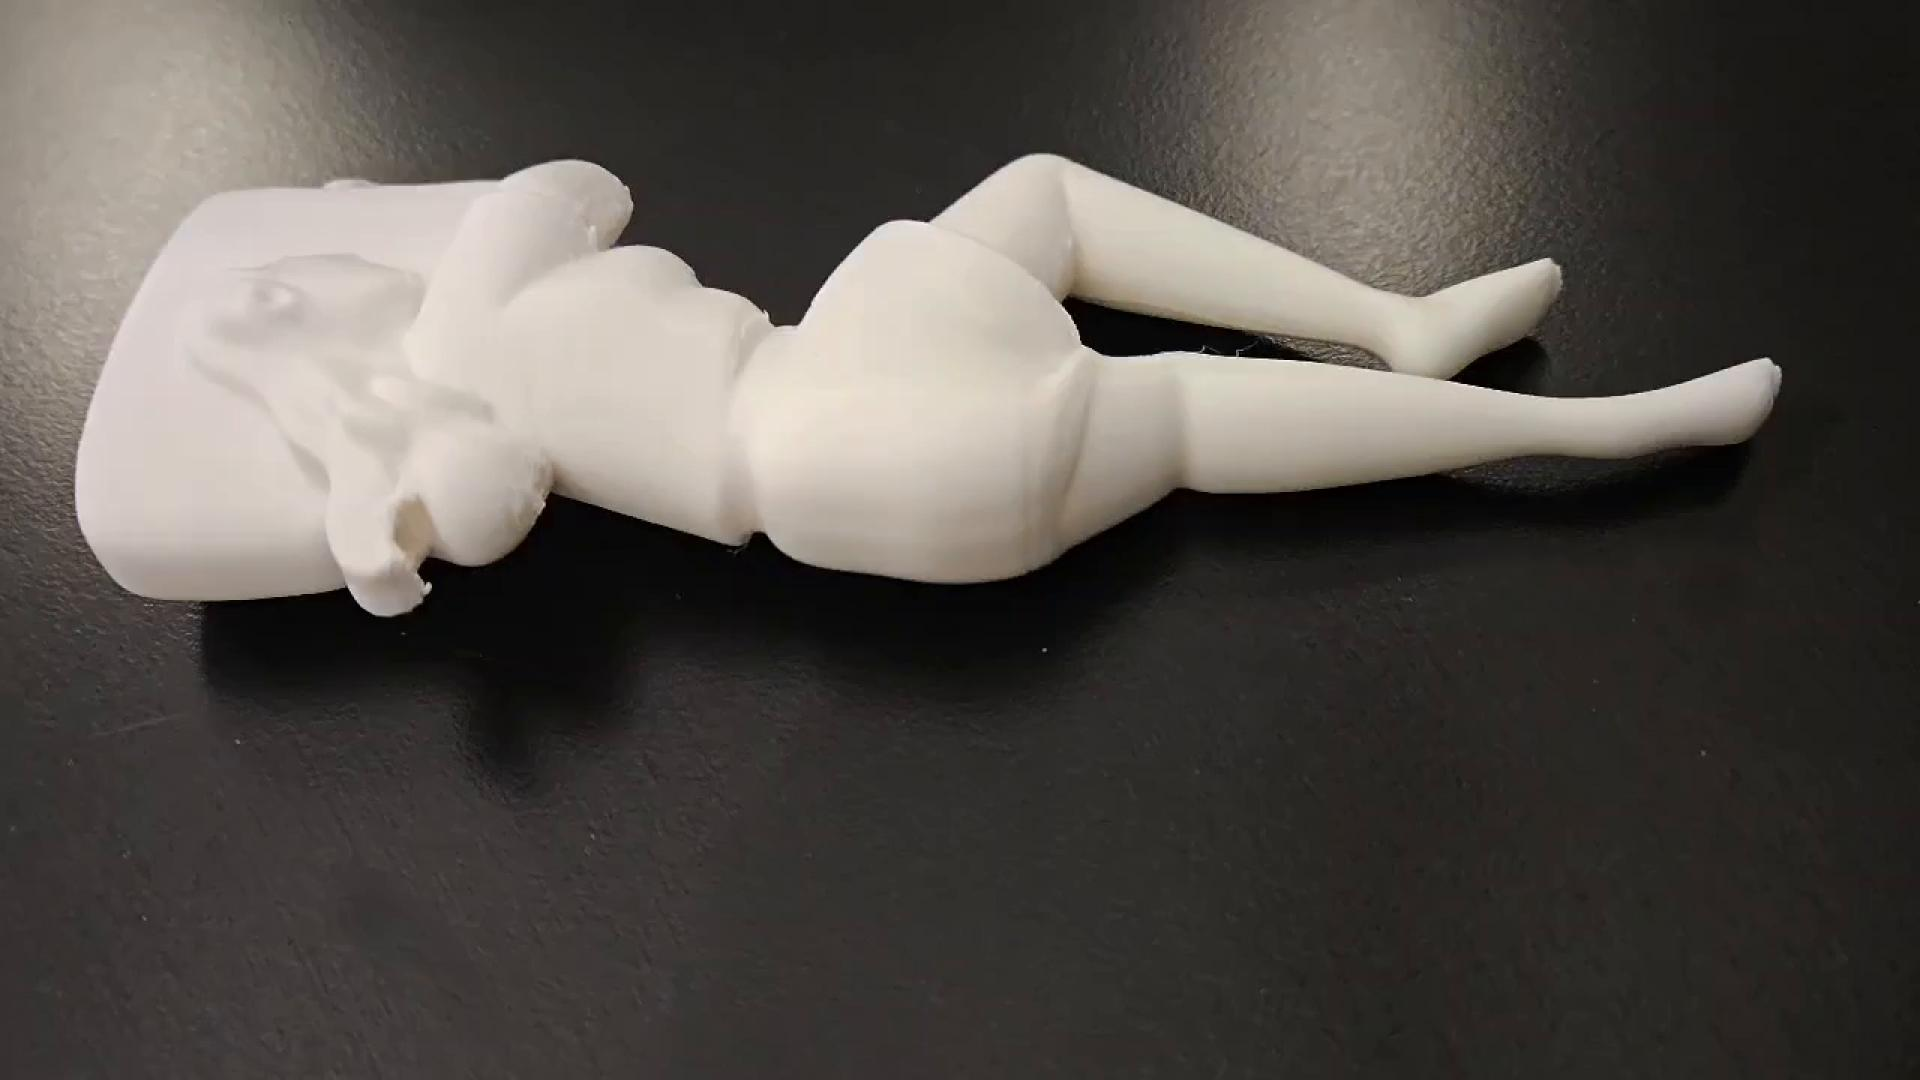Good-style: (70, 156, 1784, 615)
